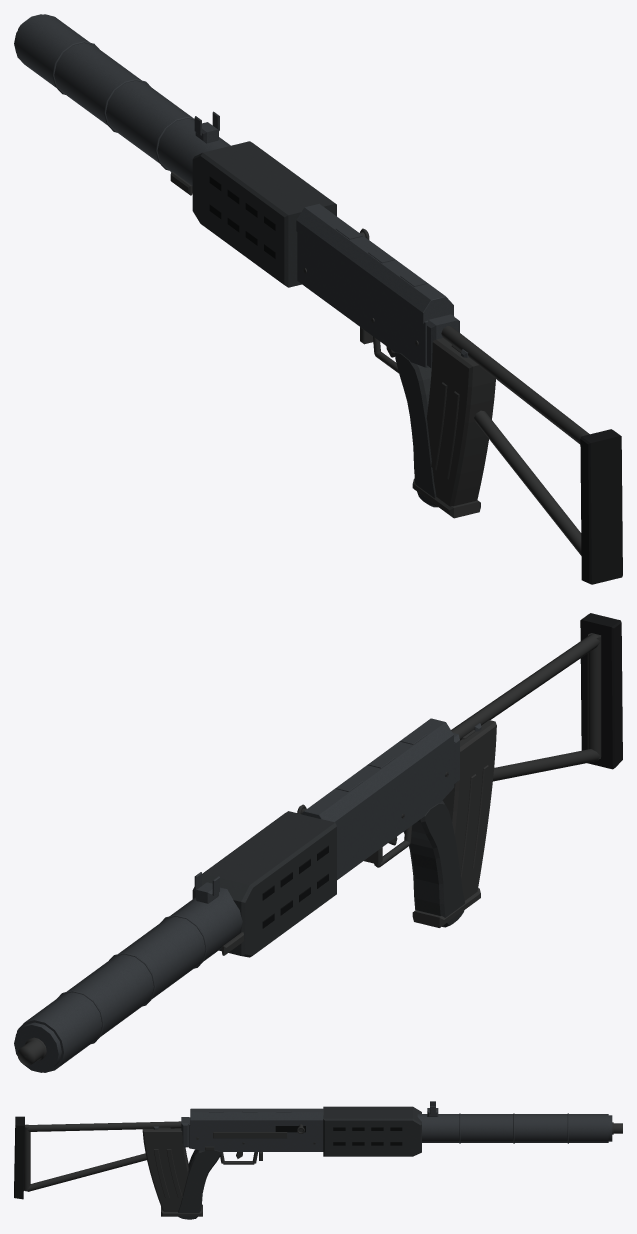
Rendered from weapon-38--VgQZcC3.glb.
3 views of the same model, one above another, from view 1: azimuth 30°, elevation 25°; view 2: azimuth 150°, elevation 25°; view 3: azimuth 270°, elevation 25° (orthographic). The views are drawn at different scales.
Parts seen in each view (by area): view 1: salient_weapon_body, salient_weapon_magazine; view 2: salient_weapon_body, salient_weapon_magazine; view 3: salient_weapon_body, salient_weapon_magazine.
Part boxes in pixels (x1,y1,x2,y2): salient_weapon_body: [14, 14, 622, 584]; salient_weapon_magazine: [412, 338, 495, 518]; salient_weapon_body: [14, 613, 622, 1072]; salient_weapon_magazine: [412, 720, 496, 927]; salient_weapon_body: [14, 1101, 622, 1219]; salient_weapon_magazine: [142, 1128, 202, 1216].
Bounding box in the file's own units: 0.0545 × 0.184 × 0.9002.
Materials: 8 (3 with a texture image).
